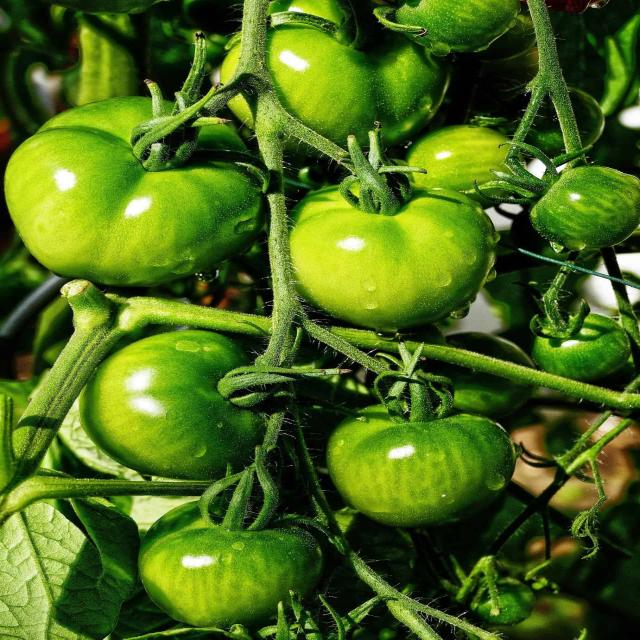kirmizi: (0, 65, 623, 640)
